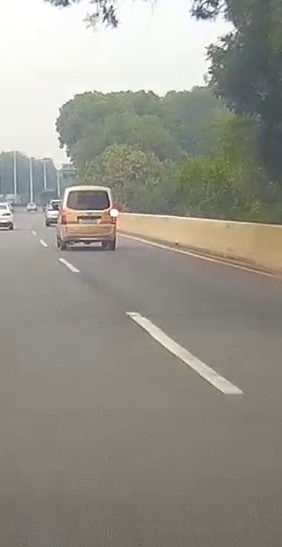L_light: (61, 210, 67, 225)
R_light: (111, 209, 116, 223)
T_light: (85, 190, 93, 193)
day-right: (60, 185, 116, 250)
